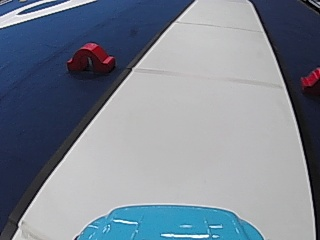bridge: (65, 39, 117, 77)
